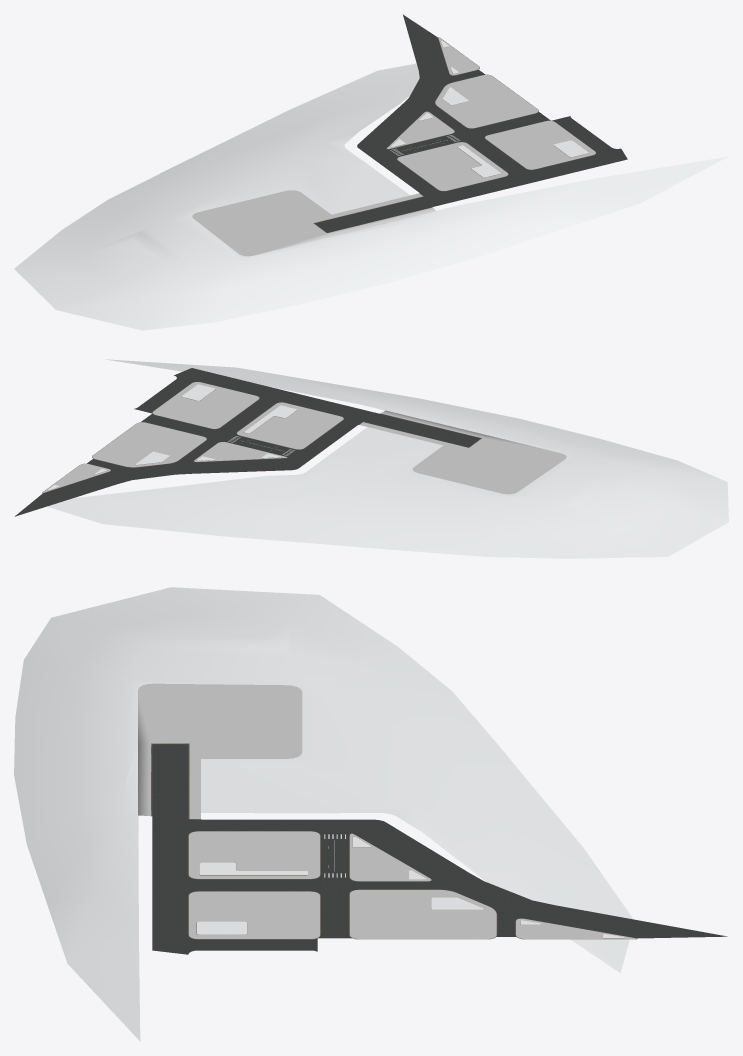
File: Area_21.fbx
3 renders of one model, top to bottom at view 1: azimuth 30°, elevation 25°; view 2: azimuth 150°, elevation 25°; view 3: azimuth 270°, elevation 25°, orthographic. The views are drawn at different scales.
Parts seen in each view (by area): view 1: Area_21; view 2: Area_21; view 3: Area_21.
Boxes of the visible parts, left/top/right/bottom form: Area_21: left=14, top=14, right=727, bottom=330; Area_21: left=15, top=359, right=728, bottom=558; Area_21: left=14, top=587, right=727, bottom=1041.
Size of the model in its own units: 54363 by 1416 by 36140.
